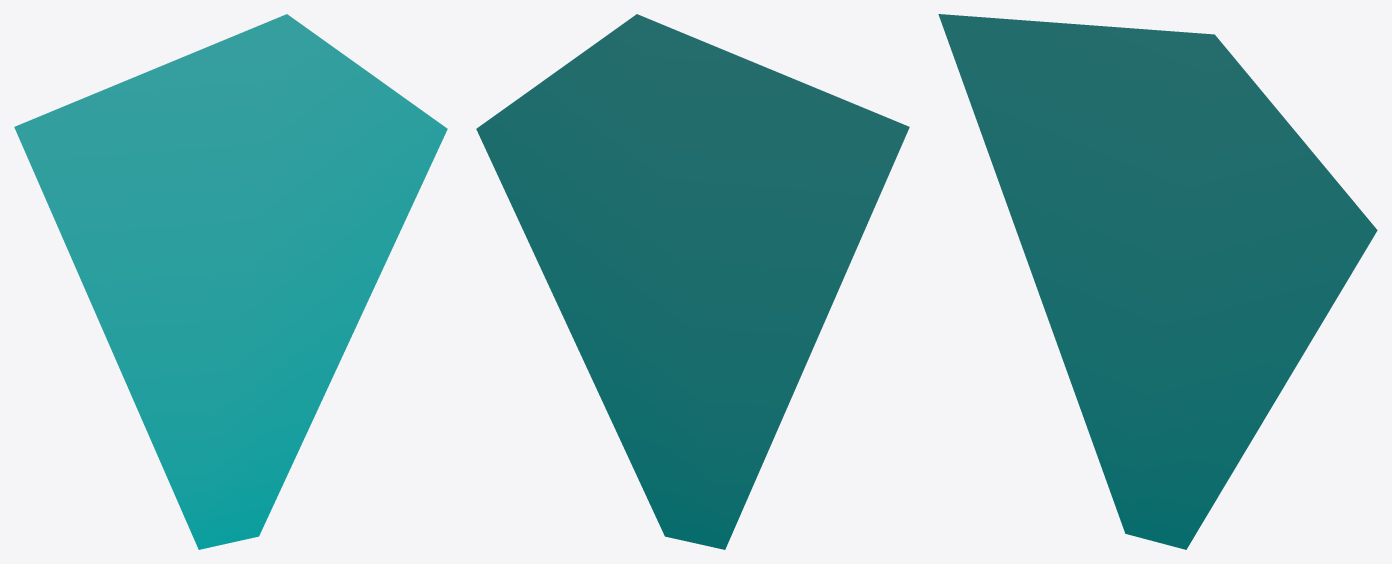
Rendered from Zamia_Palm_ulrtcjsia_Mid_ulrtcjsia_VarA_LOD3.fbx.
The picture shows the model from 3 angles, left to right: view 1: azimuth 30°, elevation 25°; view 2: azimuth 150°, elevation 25°; view 3: azimuth 330°, elevation 25°; orthographic projection.
Parts seen in each view (by area): view 1: _nxaa_VarA_LOD5; view 2: _nxaa_VarA_LOD5; view 3: _nxaa_VarA_LOD5.
Boxes of the visible parts, left/top/right/bottom form: _nxaa_VarA_LOD5: left=14, top=14, right=447, bottom=549; _nxaa_VarA_LOD5: left=476, top=14, right=909, bottom=549; _nxaa_VarA_LOD5: left=938, top=14, right=1377, bottom=549.
Bounding box in the file's own units: 37.5 × 42.62 × 0.
